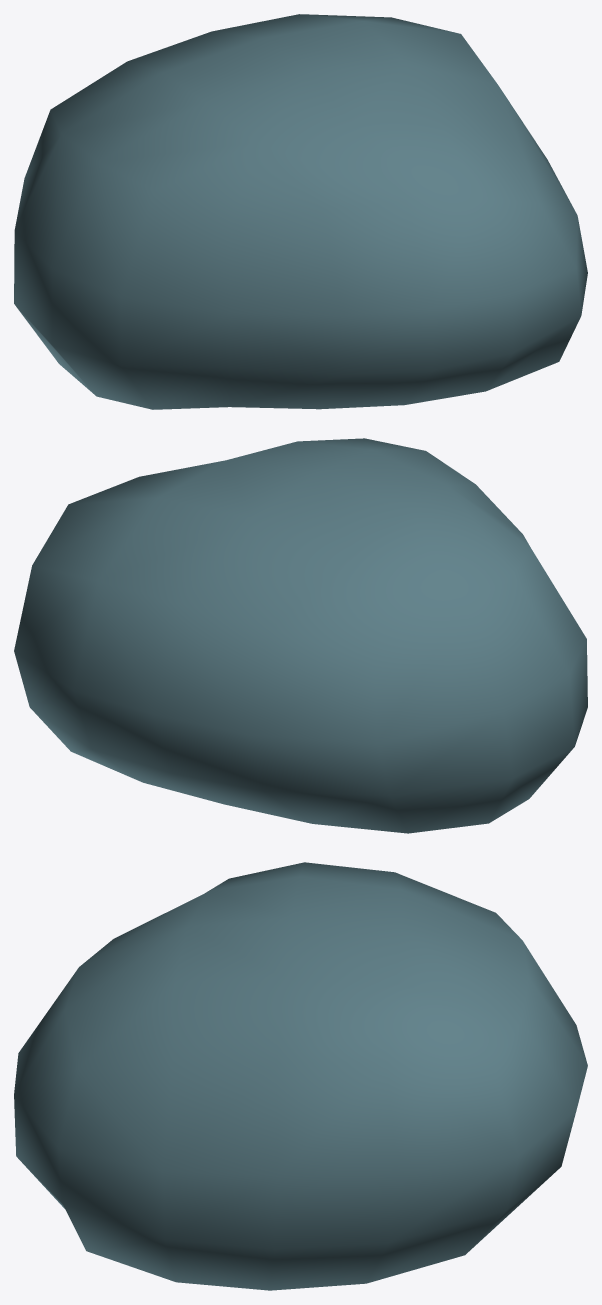
File: Rock_C_04_LOD2.gltf
3 views of the same model, one above another, from view 1: azimuth 30°, elevation 25°; view 2: azimuth 150°, elevation 25°; view 3: azimuth 270°, elevation 25° (orthographic). The views are drawn at different scales.
Parts seen in each view (by area): view 1: Rock_C_04_LOD2_Cube.763; view 2: Rock_C_04_LOD2_Cube.763; view 3: Rock_C_04_LOD2_Cube.763.
Boxes of the visible parts, x1=… form: Rock_C_04_LOD2_Cube.763: x1=14, y1=14, x2=587, y2=409; Rock_C_04_LOD2_Cube.763: x1=14, y1=438, x2=587, y2=833; Rock_C_04_LOD2_Cube.763: x1=14, y1=862, x2=587, y2=1290.
Size of the model in its own units: 5.26 by 2.83 by 5.19.
1 material, 1 textured.
